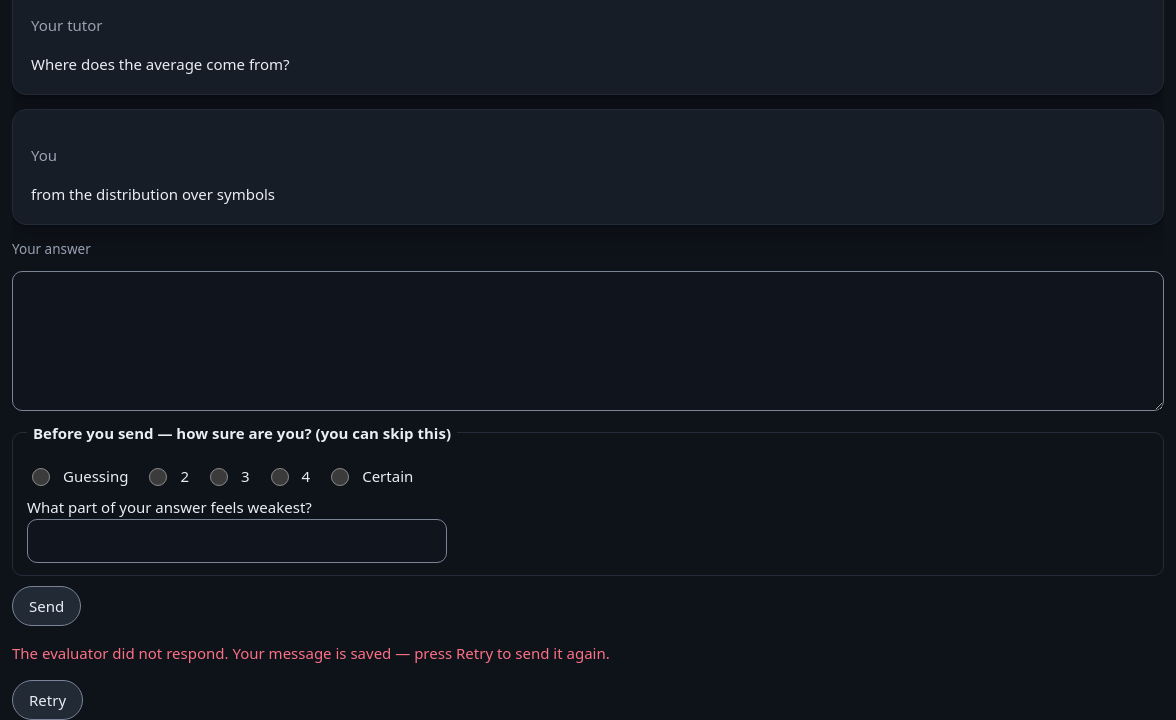
it: a transcript that is owed a reply › offers Retry when the resumed turn fails too
(page scrolled)
Check: the message with test id "chat-resume-error" shows "did not respond", box [12,643,610,663]
What coordinates should you click on to do the following:
click the button with test id "chat-resume-retry"
I would click on:
 (48, 700)
Its box is [12,680,83,719].
(page scrolled)
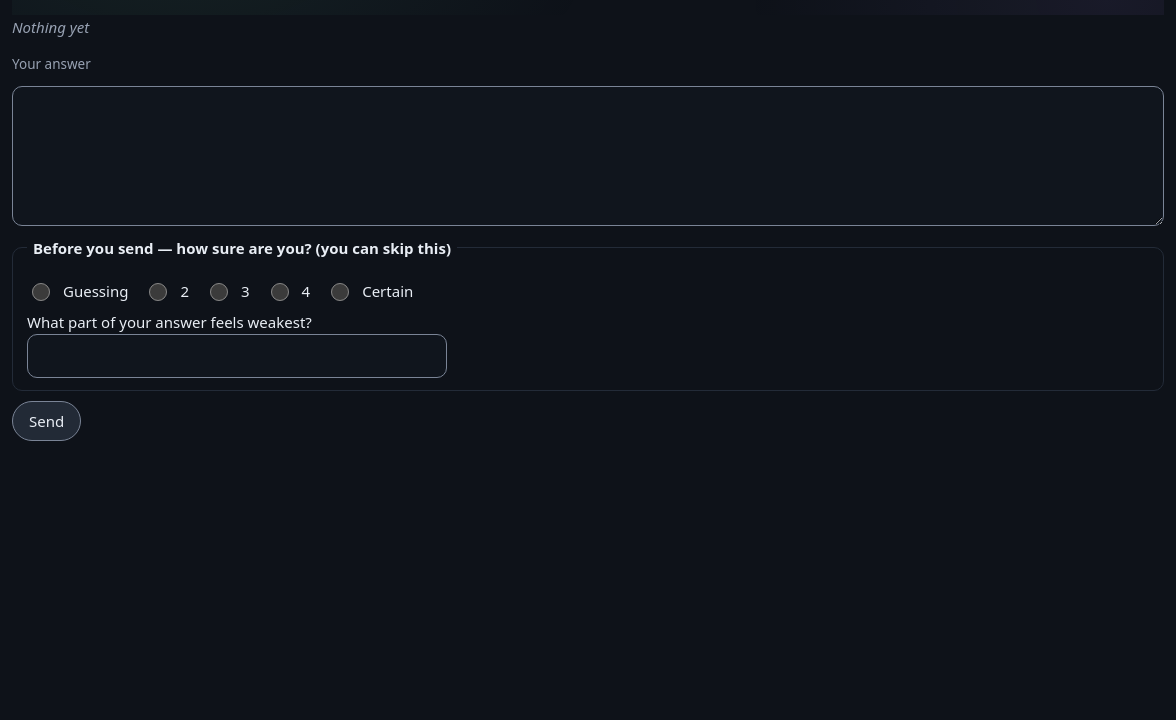
Check: the message with test id "chat-resume-error" is gone
